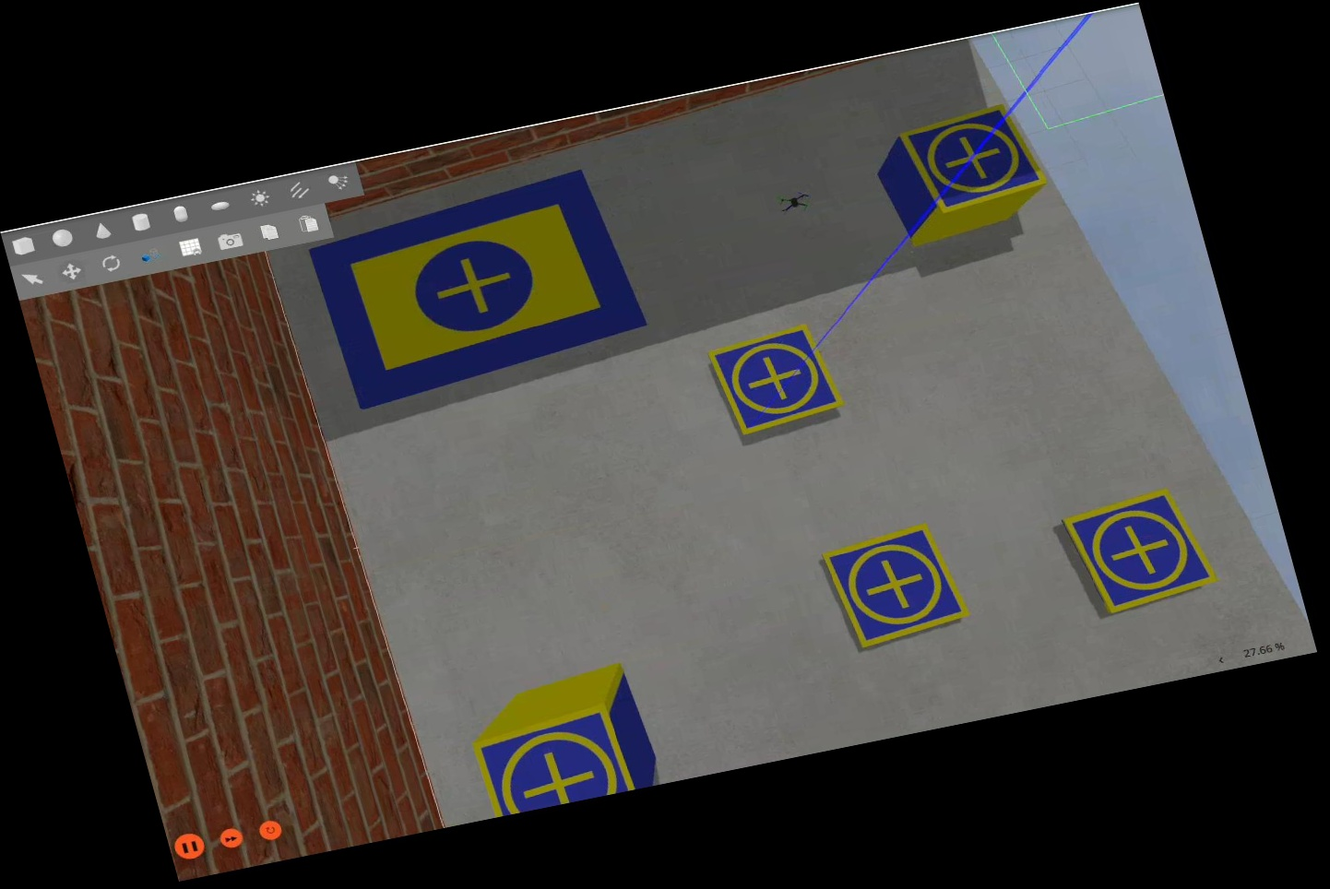large_base: (303, 166, 659, 414)
small_base: (1055, 480, 1222, 622), (819, 518, 977, 655), (469, 698, 642, 819), (895, 99, 1055, 221), (702, 319, 849, 444)
